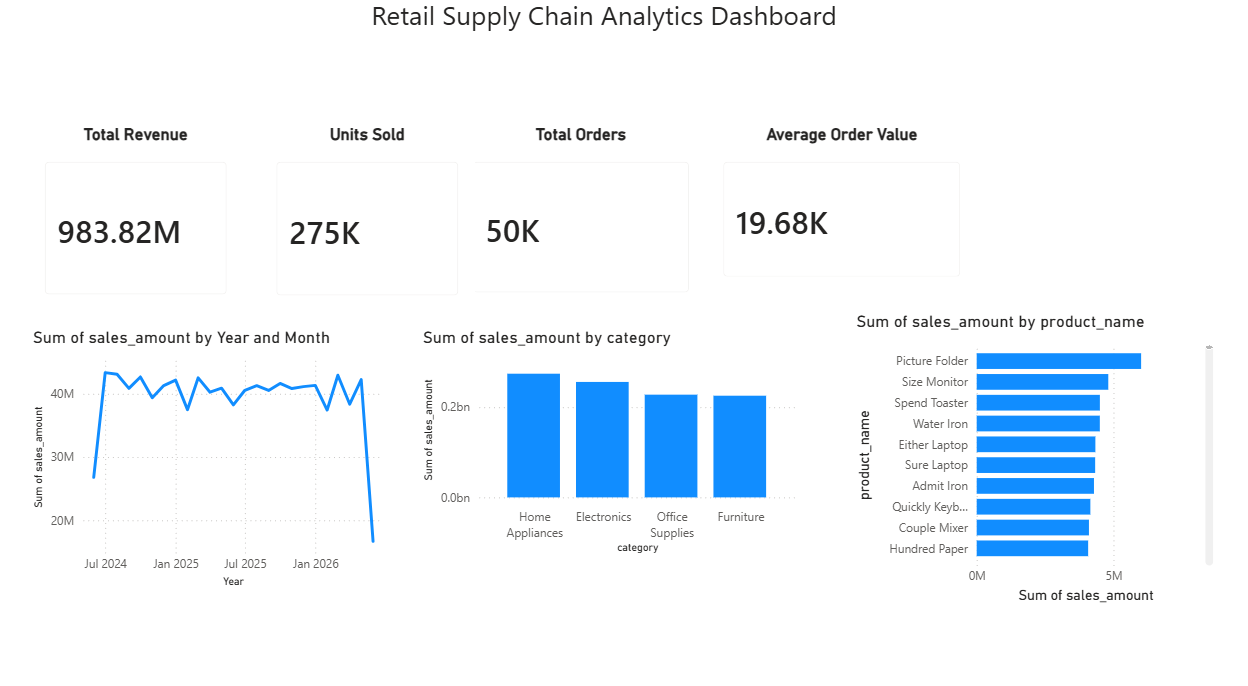

Layout of this report page (visuals, bound fields, positions):
{"tool":"powerbi","page":{"name":"Page 1","canvas":[1280,720],"ordinal":0},"visuals":[{"type":"cardVisual","title":"Total Revenue","fields":{"Data":["Sum(orders.sales_amount)"]},"box":[31.7,139.2,219.1,190.1],"z":0},{"type":"cardVisual","title":"Total Orders","fields":{"Data":["Count(orders.order_id)"]},"box":[467.7,139.7,254.2,188.3],"z":1000},{"type":"cardVisual","title":"Units Sold","fields":{"Data":["Sum(orders.quantity)"]},"box":[267.3,139.2,219.1,191.5],"z":2000},{"type":"cardVisual","title":"Average Order Value","fields":{"Data":["Avg(orders.sales_amount)"]},"box":[722,139.2,275.6,172.2],"z":3000},{"type":"lineChart","fields":{"Category":["orders.order_date.Variation.Date Hierarchy.Year","orders.order_date.Variation.Date Hierarchy.Month"],"Y":["Sum(orders.sales_amount)"]},"box":[31.4,345.3,368.8,268.4],"z":4000},{"type":"clusteredColumnChart","fields":{"Category":["products.category"],"Y":["Sum(orders.sales_amount)"]},"box":[428.4,345.3,389.2,233.8],"z":5000},{"type":"clusteredBarChart","fields":{"Y":["Sum(orders.sales_amount)"],"Category":["products.product_name"]},"box":[869.4,329.6,371.9,301.3],"z":5001},{"type":"textbox","box":[376.6,4.7,492.8,80],"z":5002}]}

Visuals, with their boxes in screenshot pixels (x1, y1, x2, y2), scaled from the page's 1280x720 canvas onto the 1248x686 screenshot:
"Total Revenue" cardVisual: {"x1": 31, "y1": 133, "x2": 245, "y2": 314}
"Total Orders" cardVisual: {"x1": 456, "y1": 133, "x2": 704, "y2": 313}
"Units Sold" cardVisual: {"x1": 261, "y1": 133, "x2": 474, "y2": 315}
"Average Order Value" cardVisual: {"x1": 704, "y1": 133, "x2": 973, "y2": 297}
lineChart - orders.order_date.Variation.Date Hierarchy.Year x orders.order_date.Variation.Date Hierarchy.Month: {"x1": 31, "y1": 329, "x2": 390, "y2": 585}
clusteredColumnChart - products.category x Sum(orders.sales_amount): {"x1": 418, "y1": 329, "x2": 797, "y2": 552}
clusteredBarChart - Sum(orders.sales_amount) x products.product_name: {"x1": 848, "y1": 314, "x2": 1210, "y2": 601}
textbox: {"x1": 367, "y1": 4, "x2": 848, "y2": 81}
